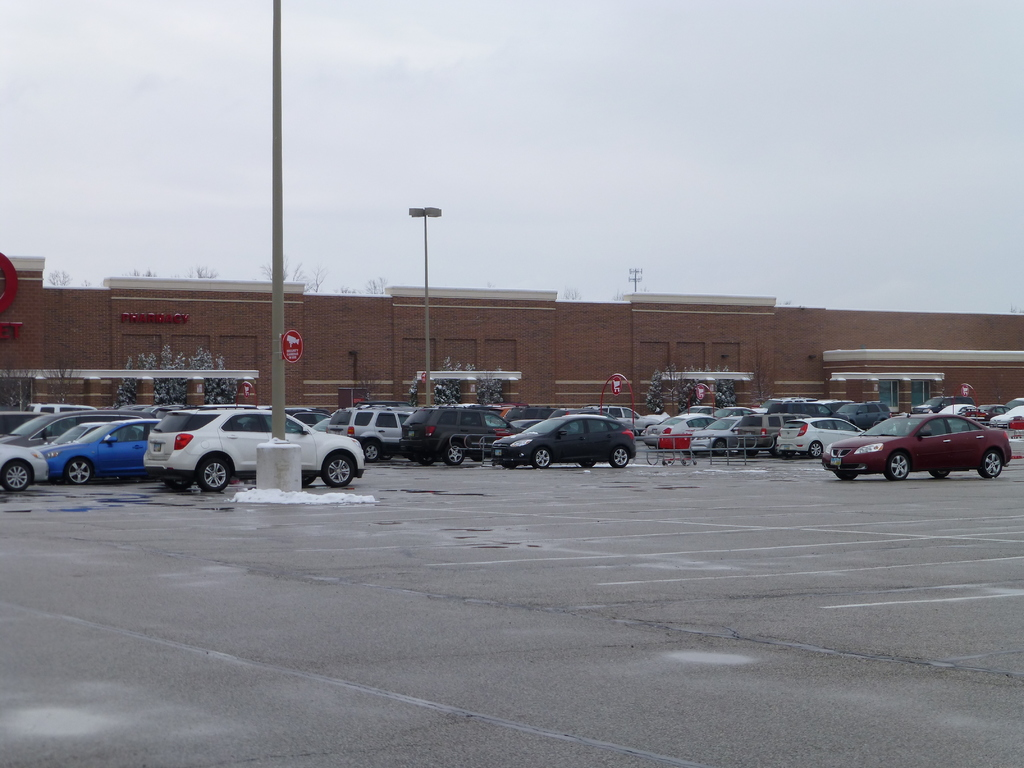Car: (0, 400, 245, 484), (139, 407, 364, 489), (818, 411, 1011, 484), (492, 407, 649, 476), (399, 407, 512, 464), (325, 406, 409, 460), (695, 414, 782, 456), (771, 419, 859, 456), (0, 437, 48, 493), (638, 416, 709, 444), (837, 399, 893, 430), (494, 403, 547, 431), (770, 400, 837, 419), (597, 406, 647, 428), (282, 407, 332, 428), (549, 407, 617, 422), (754, 395, 812, 412), (988, 406, 1023, 428), (909, 396, 972, 408), (941, 400, 984, 417), (707, 403, 752, 417), (817, 399, 853, 414), (507, 417, 543, 430), (983, 402, 1006, 422), (677, 405, 719, 415), (1007, 395, 1023, 408), (314, 417, 326, 431)
